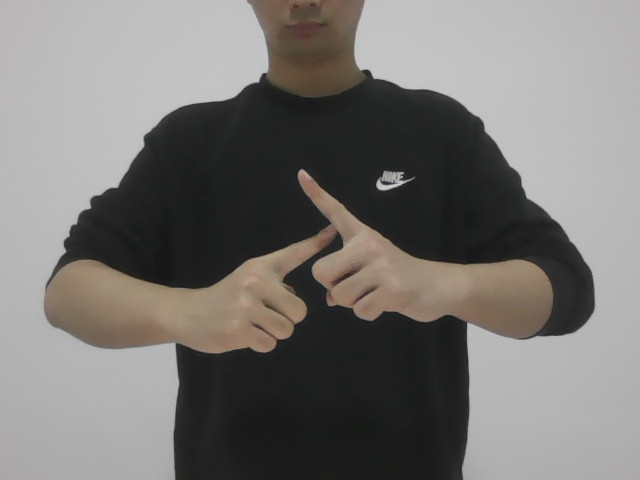peason: (216, 159, 403, 360)
